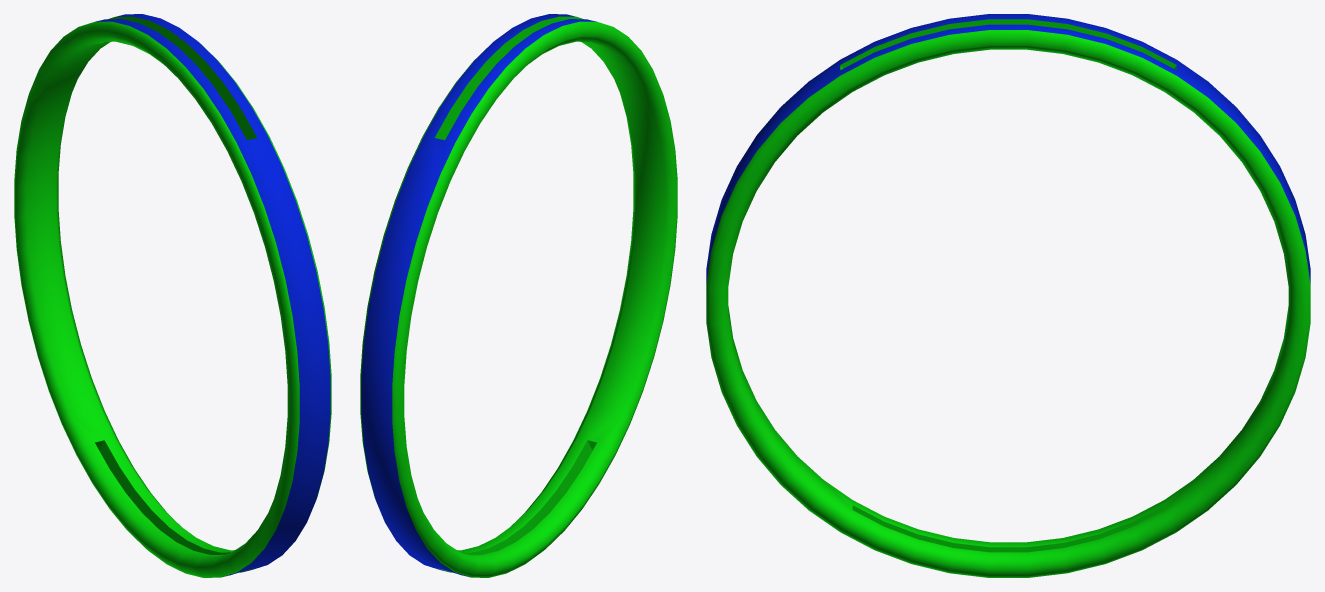
File: Gyro_Outer.fbx
The picture shows the model from 3 angles, left to right: view 1: azimuth 30°, elevation 25°; view 2: azimuth 150°, elevation 25°; view 3: azimuth 270°, elevation 25°; orthographic projection. The views are drawn at different scales.
Visible parts, largest first — view 1: Outer; view 2: Outer; view 3: Outer.
Part boxes in pixels (x1,y1,x2,y2): Outer: (14, 14, 331, 577); Outer: (360, 14, 677, 577); Outer: (706, 14, 1310, 577).
Size of the model in its own units: 6.97 by 80.25 by 80.25.
